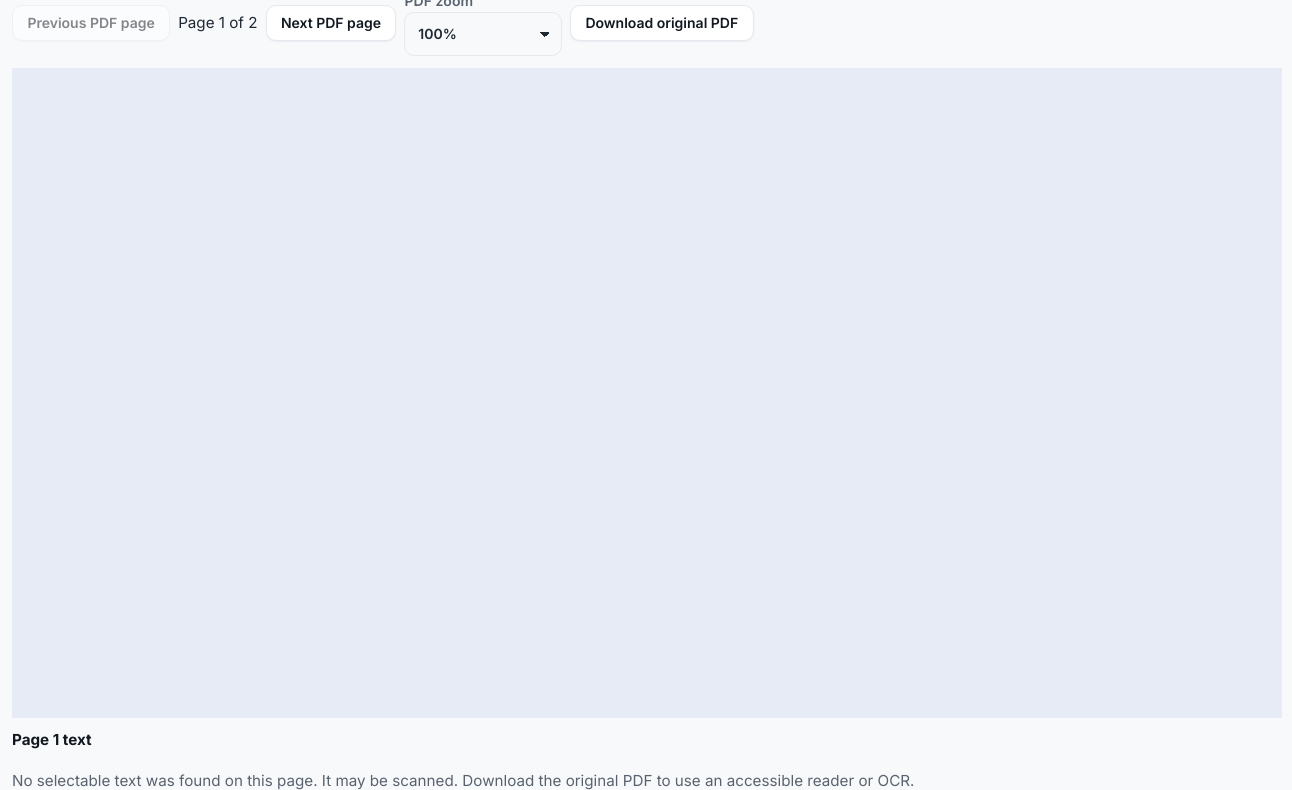
Test: offers the original PDF for scanned pages and reports extraction failures
This screenshot has width=1292, height=790.
Click the button "Next PDF page": (331, 23) [266,5,396,41]
(page scrolled)
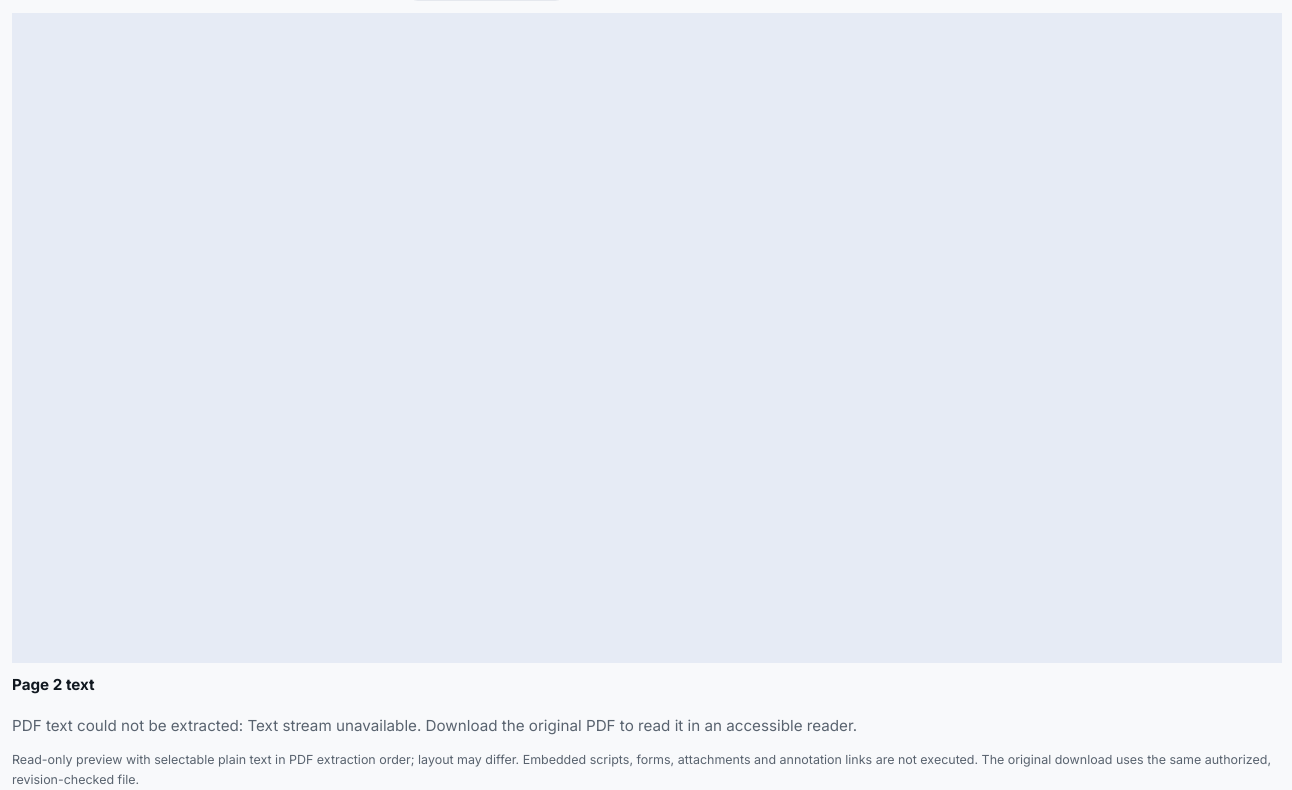
Expected: the message shows "Text stream unavailable", [247,716,417,735]
